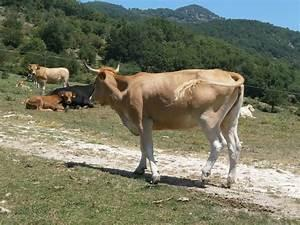cow: (82, 60, 245, 188), (26, 63, 69, 95)
